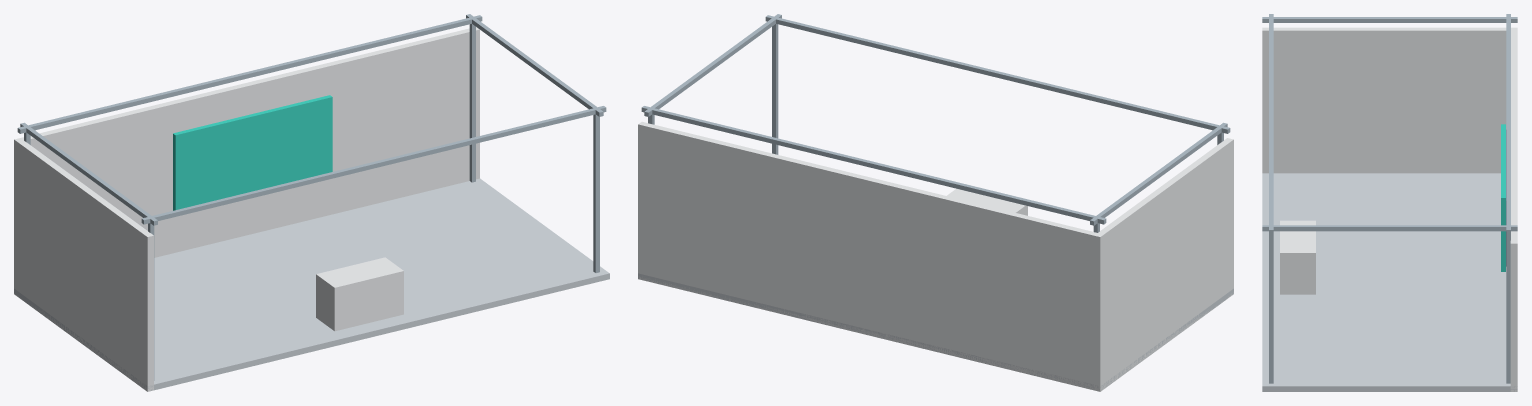
3 renders of one model, left to right at view 1: azimuth 30°, elevation 25°; view 2: azimuth 150°, elevation 25°; view 3: azimuth 270°, elevation 25°, orthographic. The views are drawn at different scales.
Visible parts, largest first — view 1: Exhibition Booth Concept; view 2: Exhibition Booth Concept; view 3: Exhibition Booth Concept.
Part boxes in pixels (left/top/right/bottom): Exhibition Booth Concept: left=14, top=14, right=609, bottom=391; Exhibition Booth Concept: left=638, top=14, right=1233, bottom=391; Exhibition Booth Concept: left=1262, top=14, right=1517, bottom=391.
Size of the model in its own units: 10 by 3.49 by 5.
